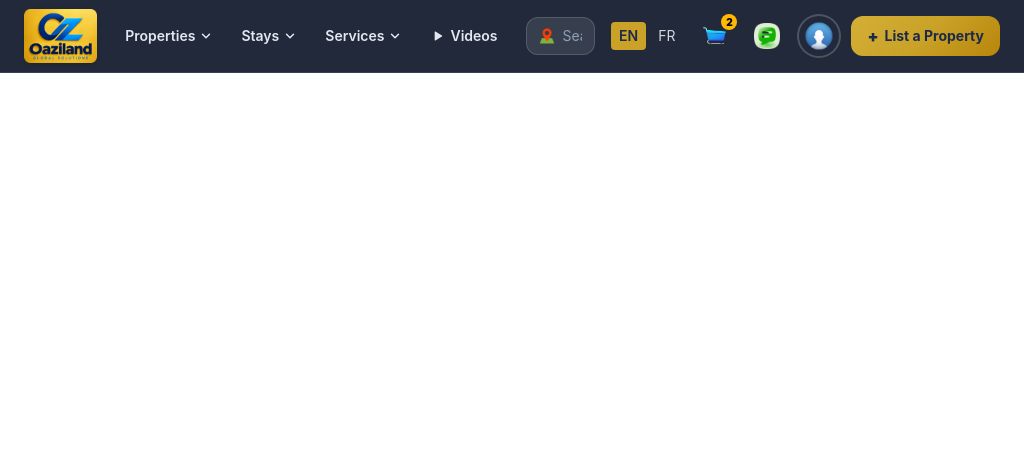
Scenario: Navbar › shows the live cart count and opens the profile menu for signed-in users
Step 1. Click the button named "Awa Ndi" → (819, 36), box x1=799 y1=16 x2=839 y2=56
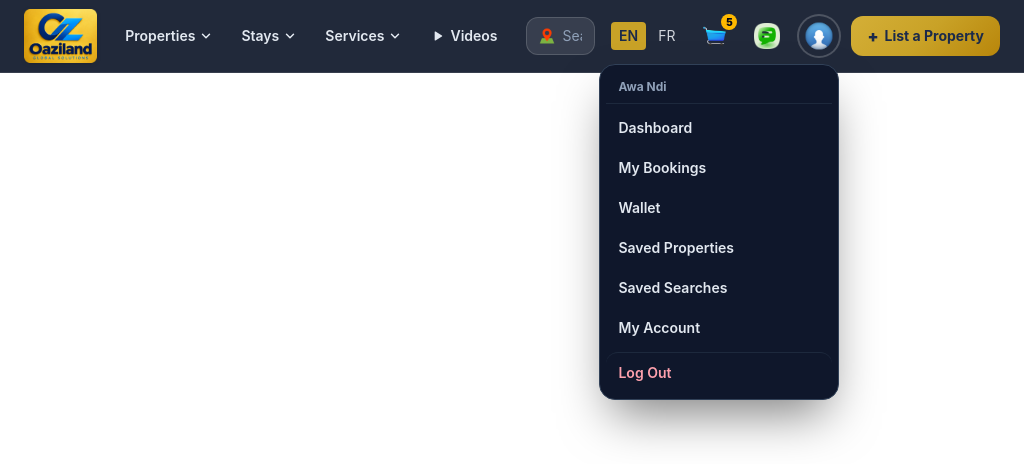
Now the link named "Cart, 5 items" is shown, box x1=695 y1=16 x2=735 y2=56
